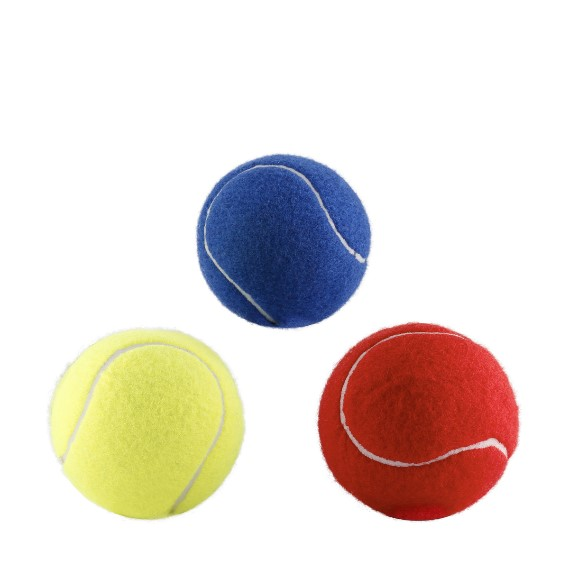blue ball: (197, 153, 372, 329)
red ball: (319, 323, 521, 521)
